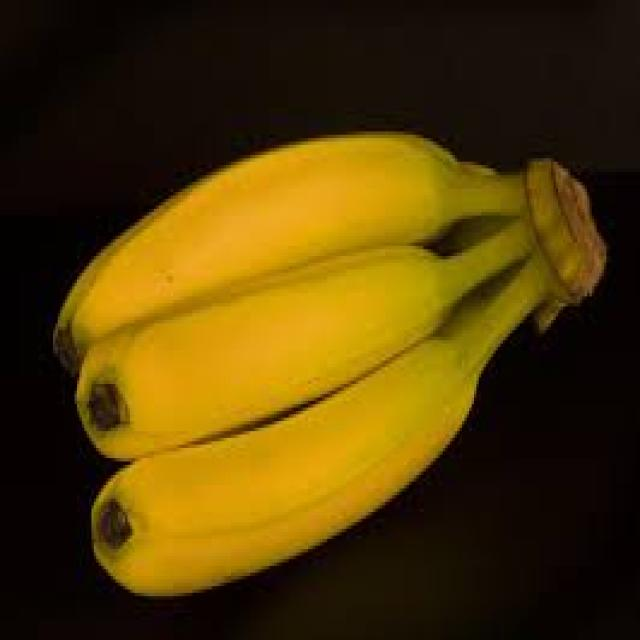banana: (51, 128, 606, 600)
